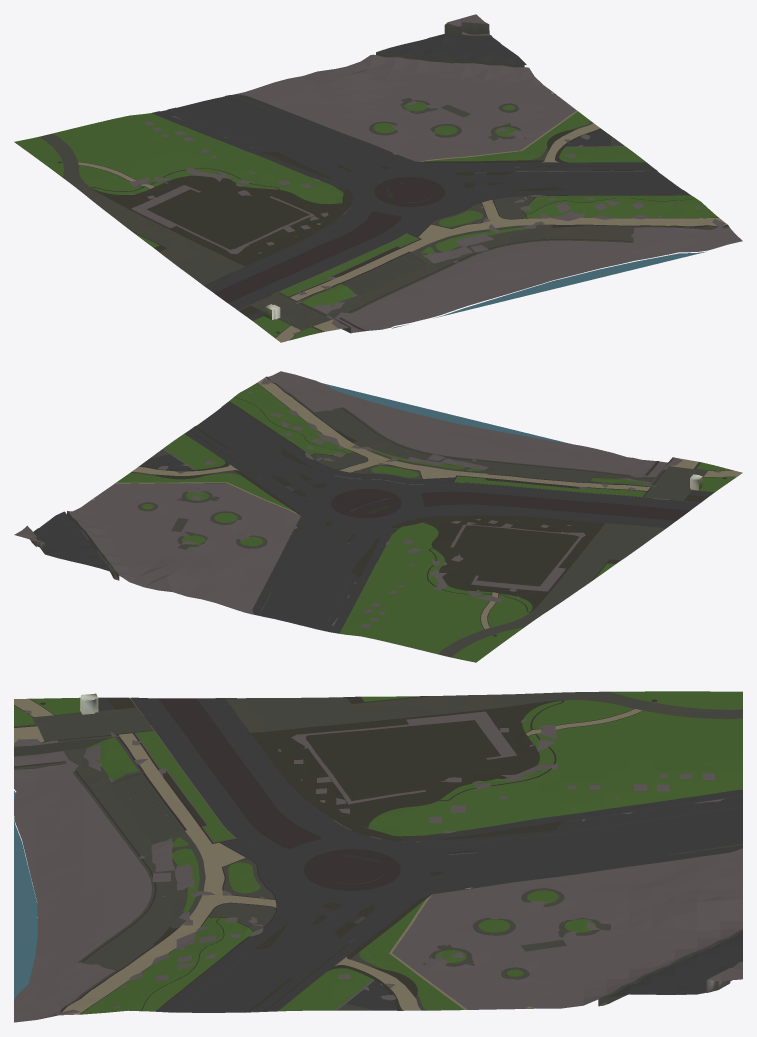
3 views of the same model, one above another, from view 1: azimuth 30°, elevation 25°; view 2: azimuth 150°, elevation 25°; view 3: azimuth 270°, elevation 25° (orthographic). The views are drawn at different scales.
Parts seen in each view (by area): view 1: c_m08_p12; view 2: c_m08_p12; view 3: c_m08_p12.
Part boxes in pixels (x1=…): c_m08_p12: x1=14, y1=14, x2=742, y2=342; c_m08_p12: x1=14, y1=371, x2=742, y2=662; c_m08_p12: x1=14, y1=691, x2=742, y2=1022.
Bounding box in the file's own units: 128 × 8.85 × 128.
